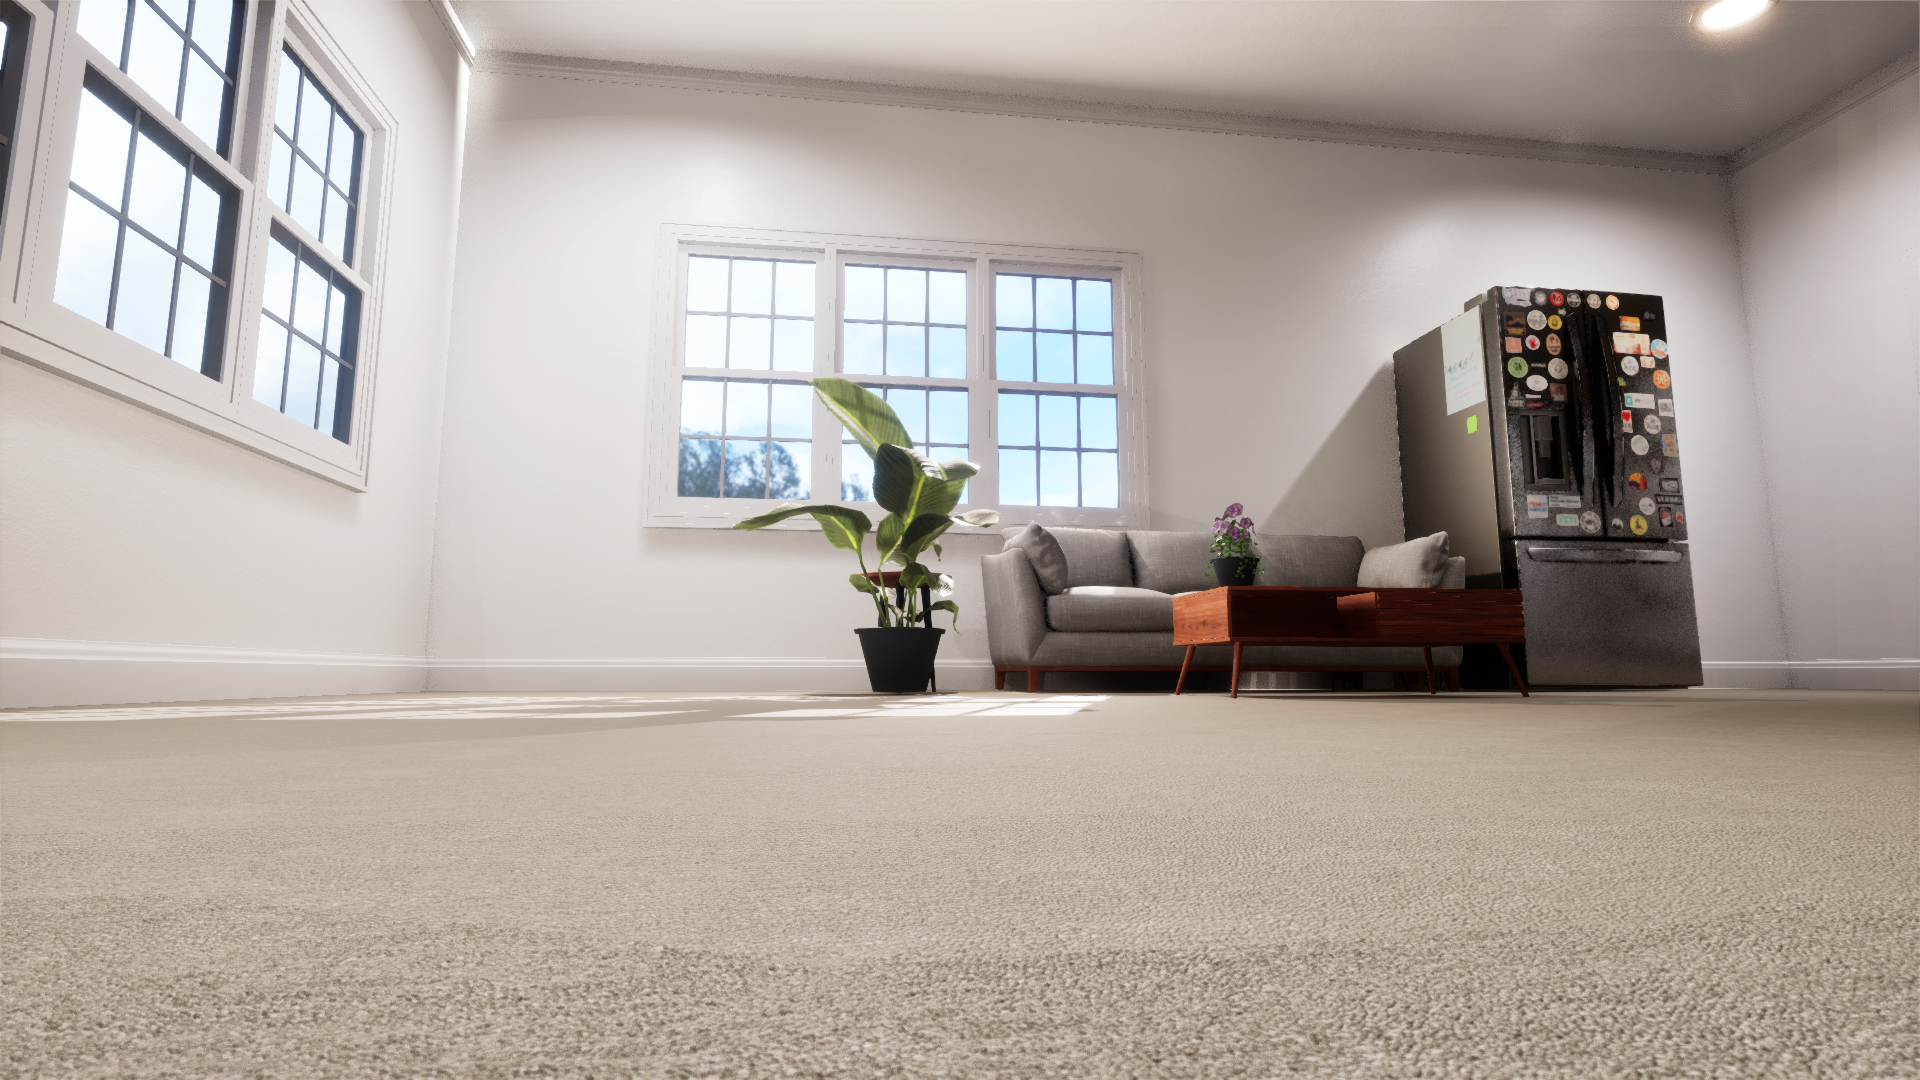cheerios: (1393, 671, 1447, 690)
soup: (1331, 678, 1352, 690)
